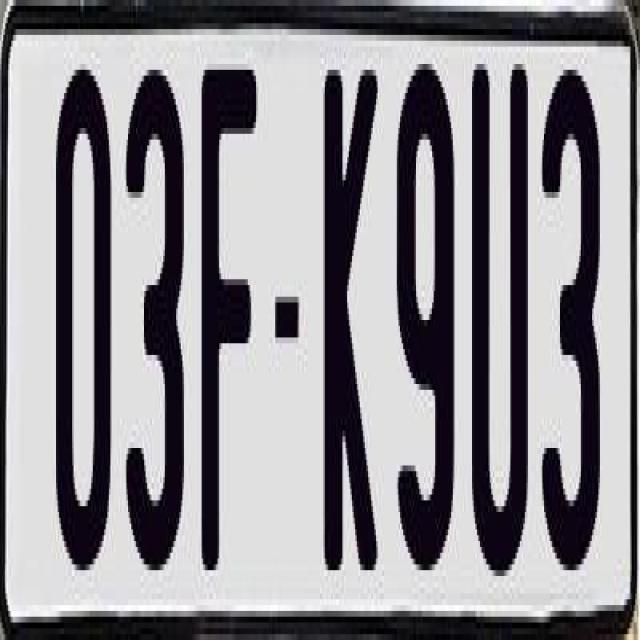0: (54, 64, 116, 594)
3: (540, 70, 606, 570), (124, 70, 182, 582)
9: (392, 52, 454, 564)
F: (200, 70, 259, 594)
K: (325, 52, 381, 570)
U: (472, 58, 536, 588)
